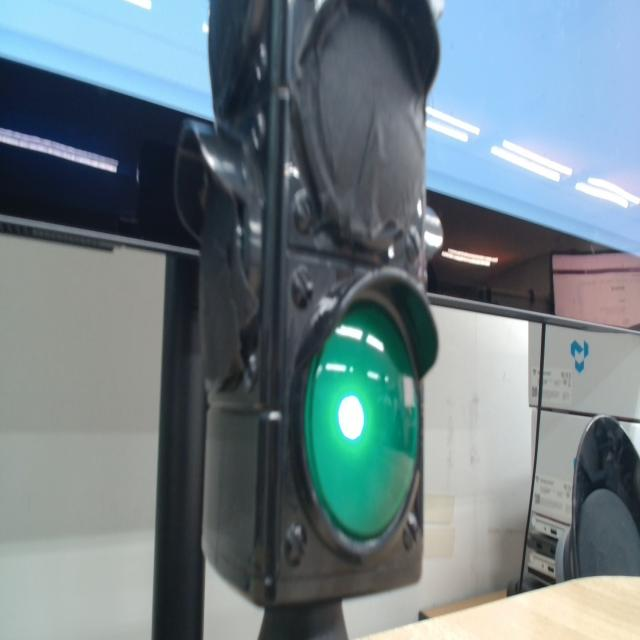green_light: (305, 302, 418, 539), (338, 396, 364, 440)
